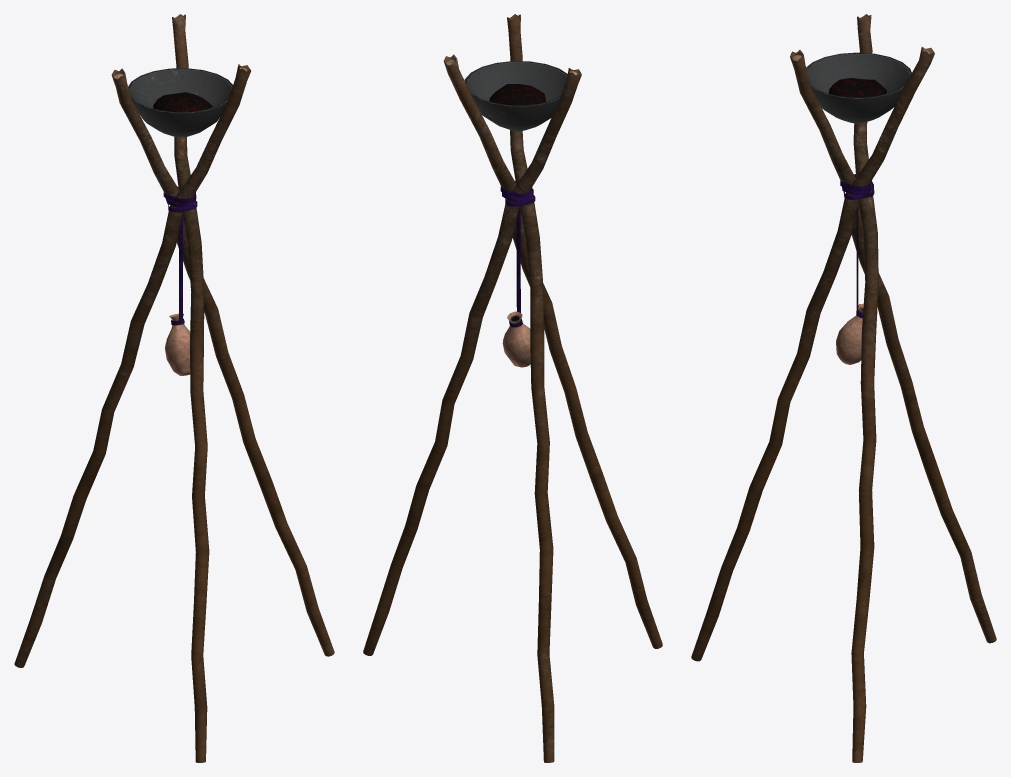
The model's file is torch.obj.
3 views of the same model, side by side, from view 1: azimuth 30°, elevation 25°; view 2: azimuth 150°, elevation 25°; view 3: azimuth 270°, elevation 25° (orthographic). The views are drawn at different scales.
Parts seen in each view (by area): view 1: Brazier_Untitled; view 2: Brazier_Untitled; view 3: Brazier_Untitled.
Part boxes in pixels (x1,y1,x2,y2): Brazier_Untitled: [14, 14, 334, 762]; Brazier_Untitled: [363, 14, 662, 762]; Brazier_Untitled: [691, 14, 996, 762].
Size of the model in its own units: 0.7481 by 1.82 by 0.7654.
